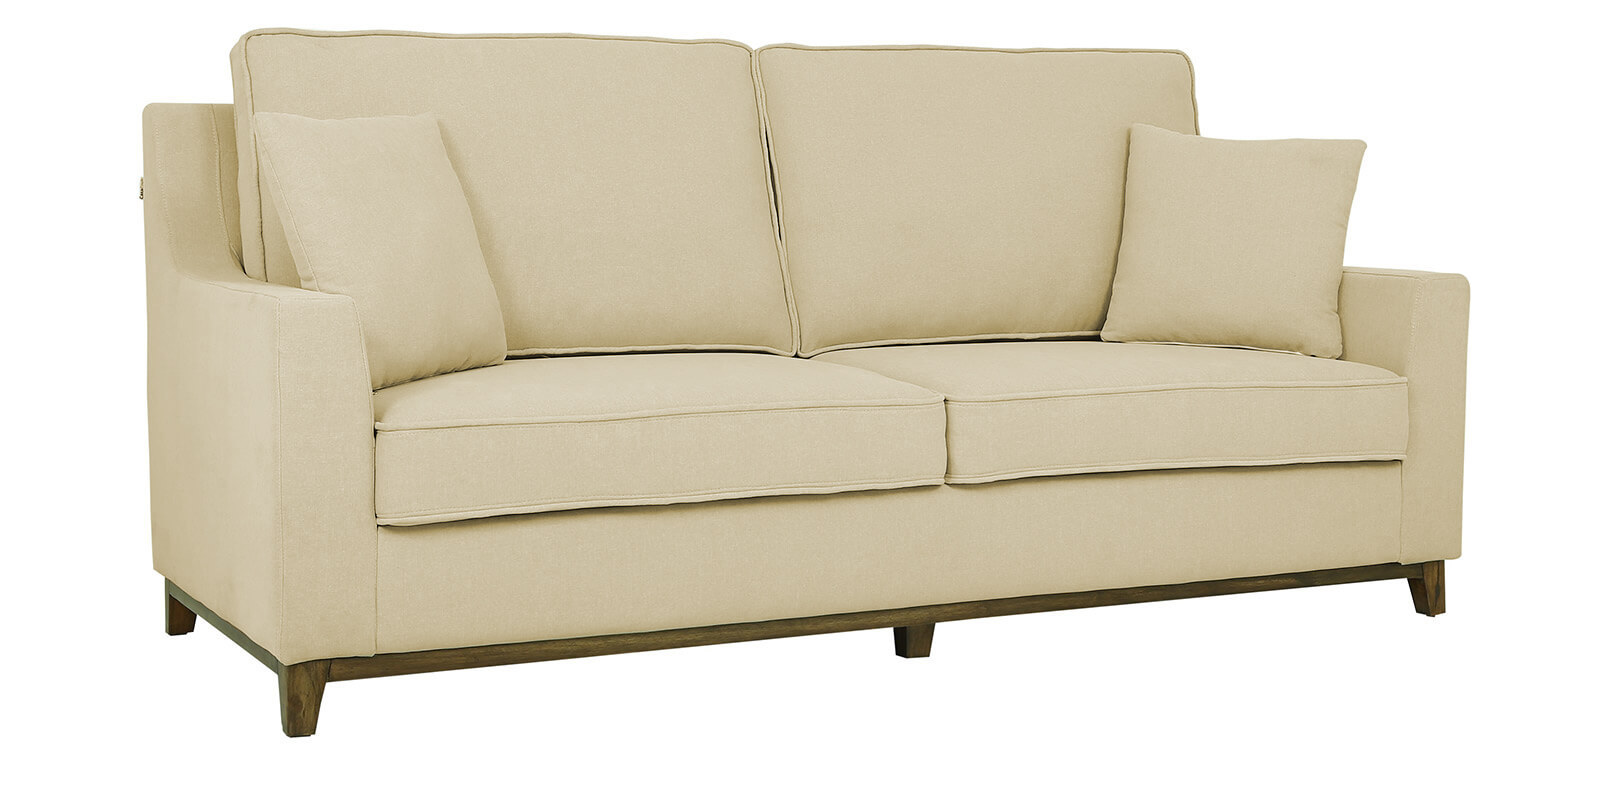Diego Three Seater Sofa in Beige Colour by CasaCraft: (119, 31, 1492, 674)
